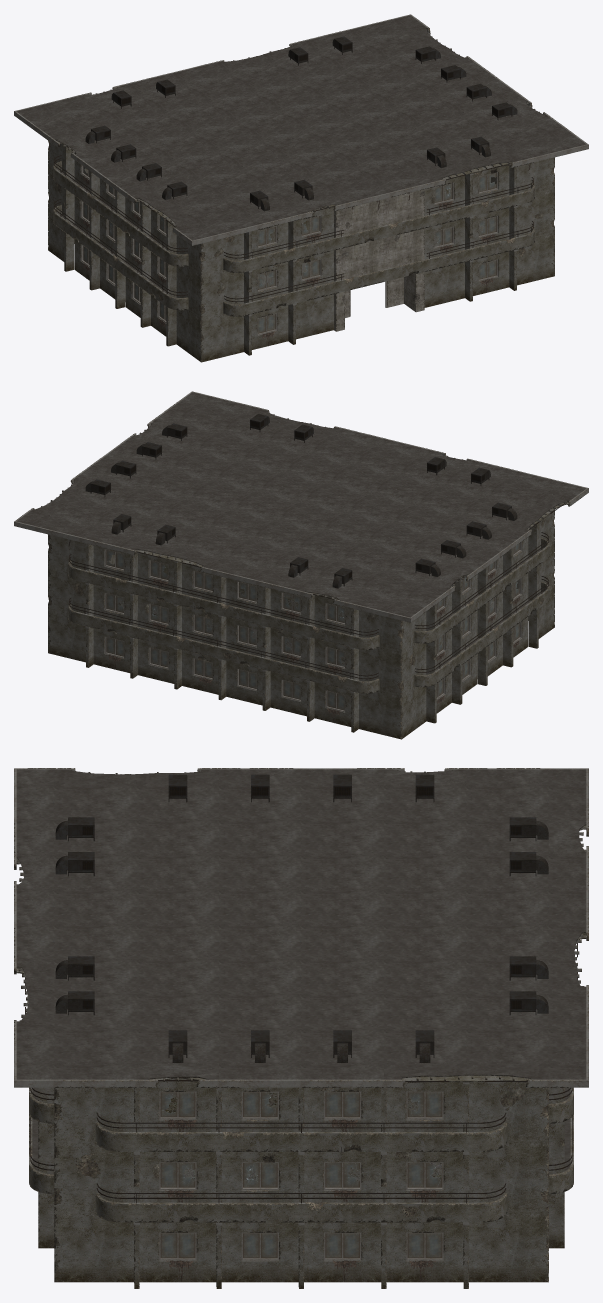
File: apartmentpre01.obj
3 views of the same model, one above another, from view 1: azimuth 30°, elevation 25°; view 2: azimuth 150°, elevation 25°; view 3: azimuth 270°, elevation 25° (orthographic). The views are drawn at different scales.
Parts seen in each view (by area): view 1: ApartmentPre01:0, ApartmentPre01a:0, ApartmentPre01c:0; view 2: ApartmentPre01:0, ApartmentPre01a:0, ApartmentPre01c:0; view 3: ApartmentPre01:0, ApartmentPre01a:0, ApartmentPre01c:0.
Boxes of the visible parts, x1,y1,x2,y2 form: ApartmentPre01:0: (14,14,588,362); ApartmentPre01a:0: (27,18,573,362); ApartmentPre01c:0: (83,166,496,333); ApartmentPre01:0: (14,391,588,739); ApartmentPre01a:0: (19,402,584,739); ApartmentPre01c:0: (106,543,519,710); ApartmentPre01:0: (14,768,588,1288); ApartmentPre01a:0: (14,768,588,1288); ApartmentPre01c:0: (160,1092,442,1258).
Size of the model in its own units: 230 by 80.53 by 179.
Materials: 3 (3 with a texture image).
